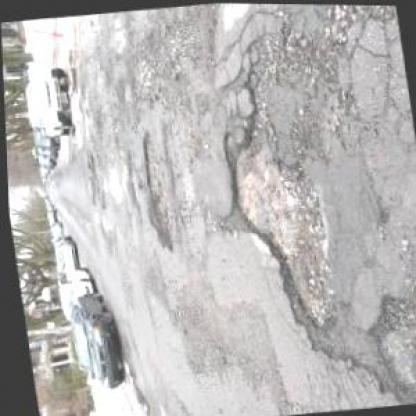pothole: (209, 97, 337, 343), (360, 284, 414, 397), (136, 125, 177, 247)
